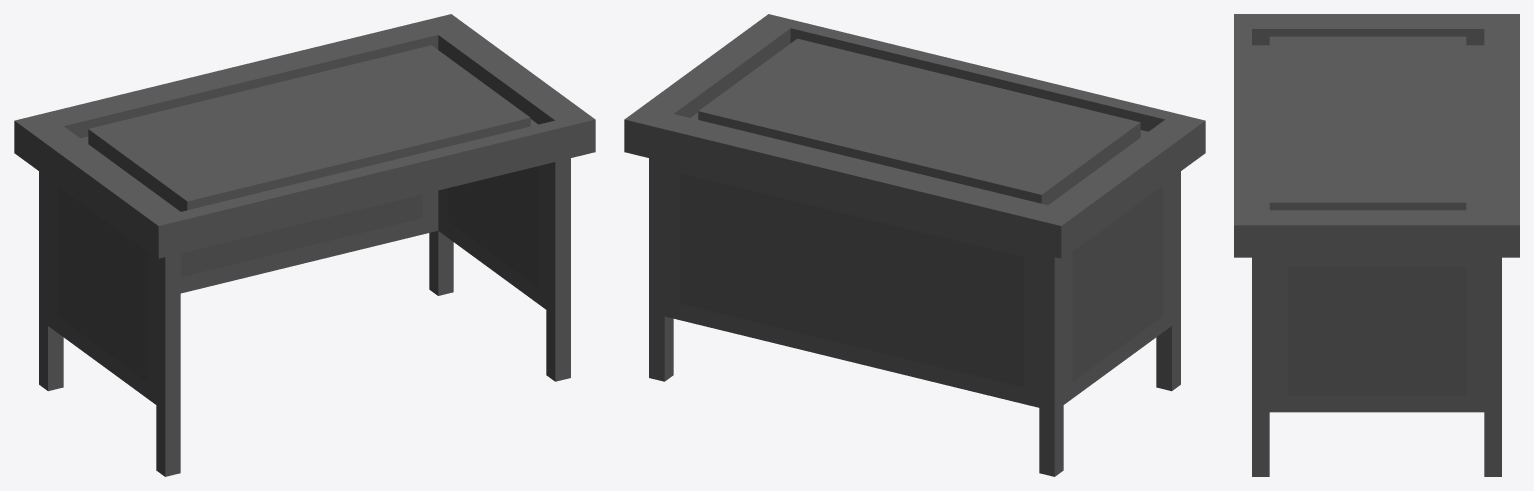
Rendered from scene_bus.obj.
The picture shows the model from 3 angles, left to right: view 1: azimuth 30°, elevation 25°; view 2: azimuth 150°, elevation 25°; view 3: azimuth 270°, elevation 25°; orthographic projection.
Size of the model in its own units: 28 by 16 by 16.
